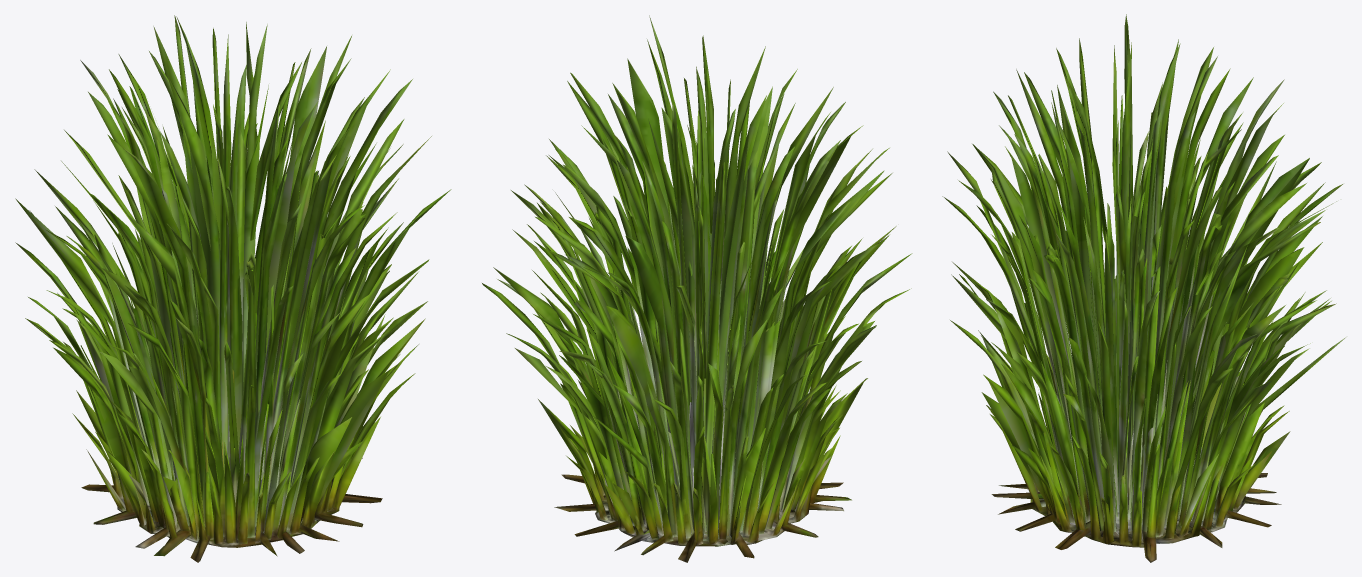
File: swampgrass.opt.glb
The picture shows the model from 3 angles, left to right: view 1: azimuth 30°, elevation 25°; view 2: azimuth 150°, elevation 25°; view 3: azimuth 270°, elevation 25°; orthographic projection. The views are drawn at different scales.
Parts seen in each view (by area): view 1: node_0; view 2: node_0; view 3: node_0.
Boxes of the visible parts, bbox=[...] form: node_0: bbox=[15, 15, 451, 562]; node_0: bbox=[482, 15, 912, 562]; node_0: bbox=[942, 14, 1345, 562].
Size of the model in its own units: 0.8157 by 0.9964 by 0.8356.
Materials: 1 (1 with a texture image).
